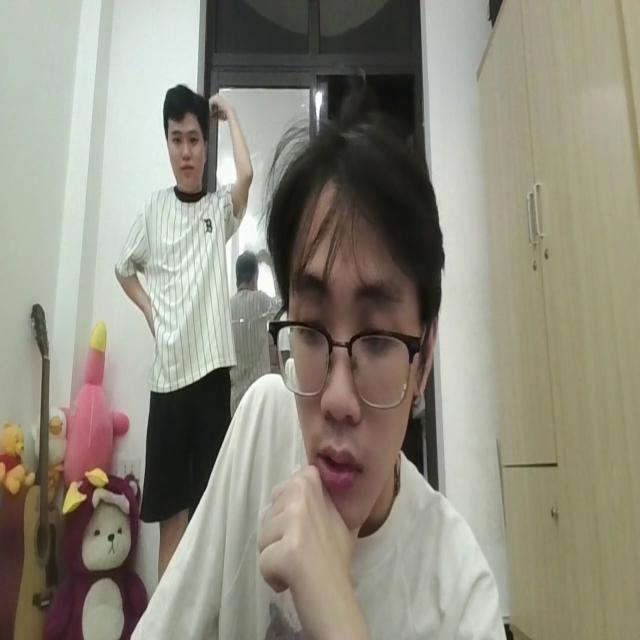extra_person: (110, 70, 249, 459)
student: (131, 101, 505, 640)
